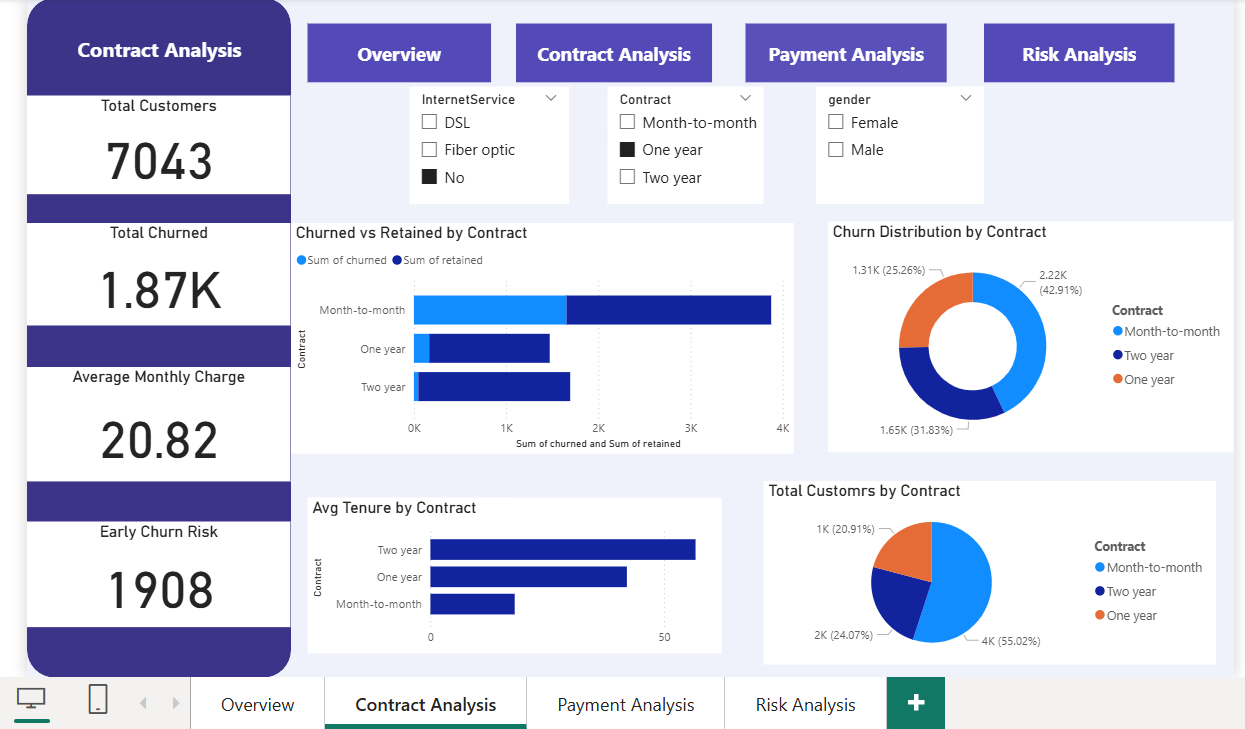

Layout of this report page (visuals, bound fields, positions):
{"tool":"powerbi","page":{"name":"Contract Analysis","canvas":[1280,720],"ordinal":1},"visuals":[{"type":"shape","box":[0,0,279.9,720.5],"z":0},{"type":"actionButton","box":[296.7,26.5,194.6,62.4],"z":1000},{"type":"actionButton","box":[517.8,26.5,207.9,62.4],"z":2000},{"type":"actionButton","box":[761.6,26.5,213.5,62.4],"z":3000},{"type":"actionButton","box":[1014.8,26.5,202.2,62.4],"z":4000},{"type":"textbox","box":[25.7,33.1,229.8,47.8],"z":5000},{"type":"card","title":"Total Customers","fields":{"Values":["CountNonNull(Customers.customerID)"]},"box":[0,102.9,279.4,104.8],"z":6000},{"type":"card","title":"Total Churned","fields":{"Values":["Sum(qry_churn_by_contract.churned)"]},"box":[0,239,279.4,108.5],"z":7000},{"type":"card","title":"Average Monthly Charge","fields":{"Values":["Avg(Services.MonthlyCharges)"]},"box":[0,391.5,279.4,121.3],"z":8000},{"type":"card","title":"Early Churn Risk","fields":{"Values":["CountNonNull(Q_Early_Churn_Risk.CustomerID)"]},"box":[0,555.1,279.4,112.1],"z":9000},{"type":"barChart","title":"Churned vs Retained by Contract","fields":{"Category":["qry_churn_by_contract (2).Contract"],"Y":["Sum(qry_churn_by_contract (2).churned)","Sum(qry_churn_by_contract (2).retained)"]},"box":[279.4,239,533.1,244.5],"z":10000},{"type":"donutChart","title":"Churn Distribution by Contract","fields":{"Category":["qry_churn_by_contract (2).Contract"],"Y":["Sum(qry_churn_by_contract (2).retained)"]},"box":[849.3,237.1,430.1,244.5],"z":11000},{"type":"clusteredBarChart","title":"Avg Tenure by Contract","fields":{"Category":["qry_churn_by_contract (2).Contract"],"Y":["Sum(qry_churn_by_contract (2).avg_tenure_months)"]},"box":[297.8,529.4,439.3,165.4],"z":12000},{"type":"pieChart","title":"Total Customrs by Contract","fields":{"Category":["qry_churn_by_contract (2).Contract"],"Y":["Sum(qry_churn_by_contract (2).total_customers)"]},"box":[781.2,512.9,479.8,194.9],"z":13000},{"type":"slicer","fields":{"Values":["Services.InternetService"]},"box":[406.2,93.7,169.1,125],"z":14000},{"type":"slicer","fields":{"Values":["Services.Contract"]},"box":[615.8,93.7,165.4,125],"z":15000},{"type":"slicer","fields":{"Values":["Customers.gender"]},"box":[836.4,93.7,178.3,125],"z":16000}]}

Visuals, with their boxes on the page's 1280x720 design canvas (x1, y1, x2, y2). These are canvas units, not pixel positions in the 1245x729 screenshot, which may show the page scaled, cropped or inside an application window:
shape: box=[0, 0, 280, 720]
actionButton: box=[297, 26, 491, 89]
actionButton: box=[518, 26, 726, 89]
actionButton: box=[762, 26, 975, 89]
actionButton: box=[1015, 26, 1217, 89]
textbox: box=[26, 33, 256, 81]
"Total Customers" card: box=[0, 103, 279, 208]
"Total Churned" card: box=[0, 239, 279, 348]
"Average Monthly Charge" card: box=[0, 392, 279, 513]
"Early Churn Risk" card: box=[0, 555, 279, 667]
"Churned vs Retained by Contract" barChart: box=[279, 239, 812, 484]
"Churn Distribution by Contract" donutChart: box=[849, 237, 1279, 482]
"Avg Tenure by Contract" clusteredBarChart: box=[298, 529, 737, 695]
"Total Customrs by Contract" pieChart: box=[781, 513, 1261, 708]
slicer - Services.InternetService: box=[406, 94, 575, 219]
slicer - Services.Contract: box=[616, 94, 781, 219]
slicer - Customers.gender: box=[836, 94, 1015, 219]
